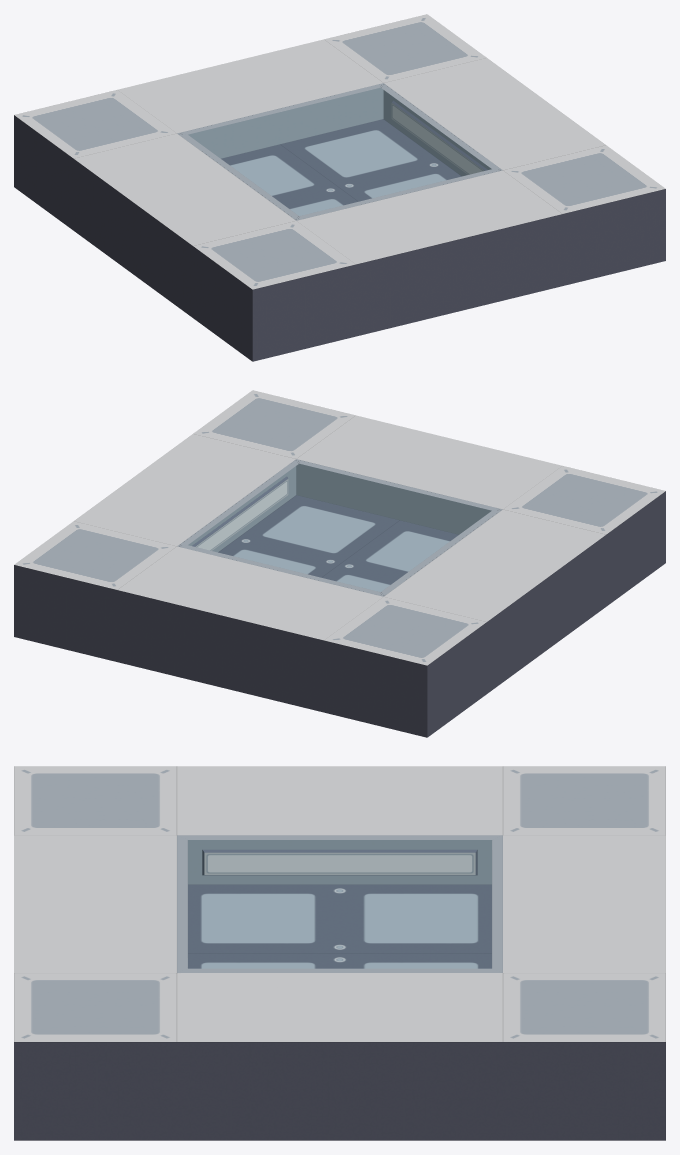
File: Floor_02.FBX
3 views of the same model, one above another, from view 1: azimuth 30°, elevation 25°; view 2: azimuth 150°, elevation 25°; view 3: azimuth 270°, elevation 25° (orthographic). The views are drawn at different scales.
Visible parts, largest first — view 1: Floor_02; view 2: Floor_02; view 3: Floor_02.
Boxes of the visible parts, <box> form: Floor_02: <box>14,14,665,361</box>; Floor_02: <box>14,390,665,737</box>; Floor_02: <box>14,766,665,1140</box>.
Size of the model in its own units: 6 by 1 by 6.
3 materials, 2 textured.
